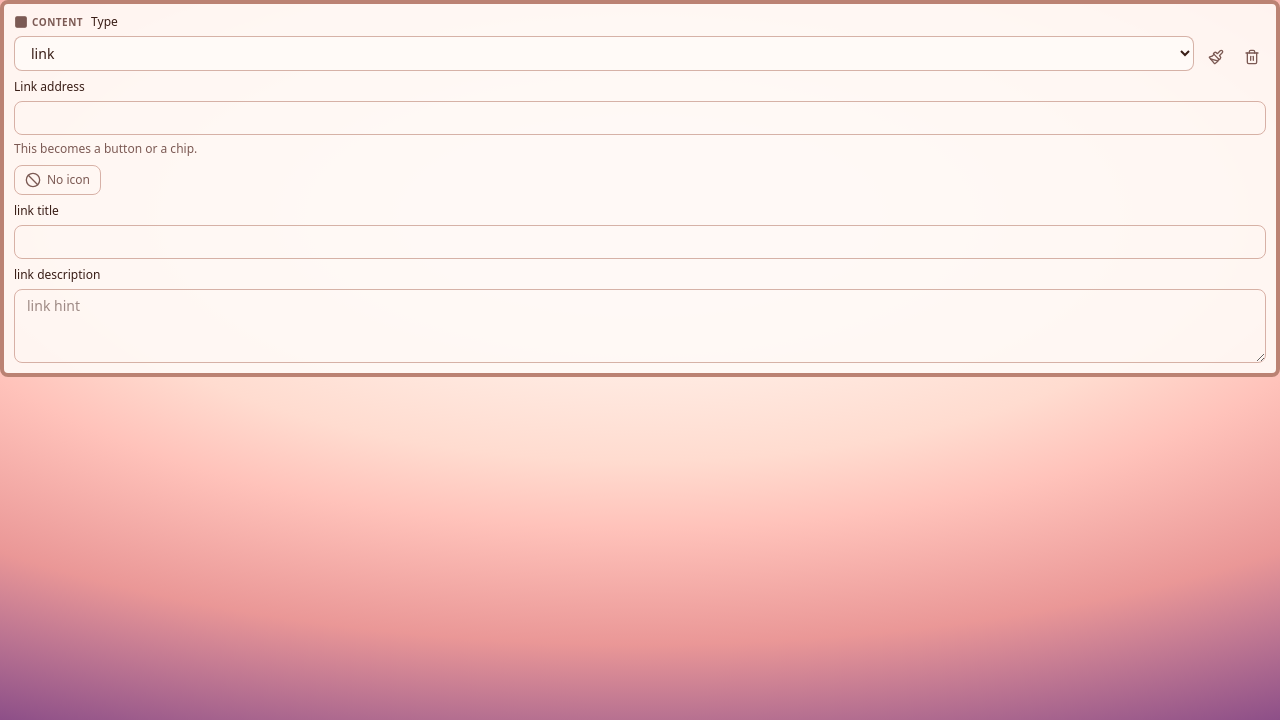
Test case: LeafEditor › its own style popup › offers 'style', 'card' and 'border' for a link leaf
Click the button named "Section style".
click(1216, 57)  # box [1202,43,1230,71]
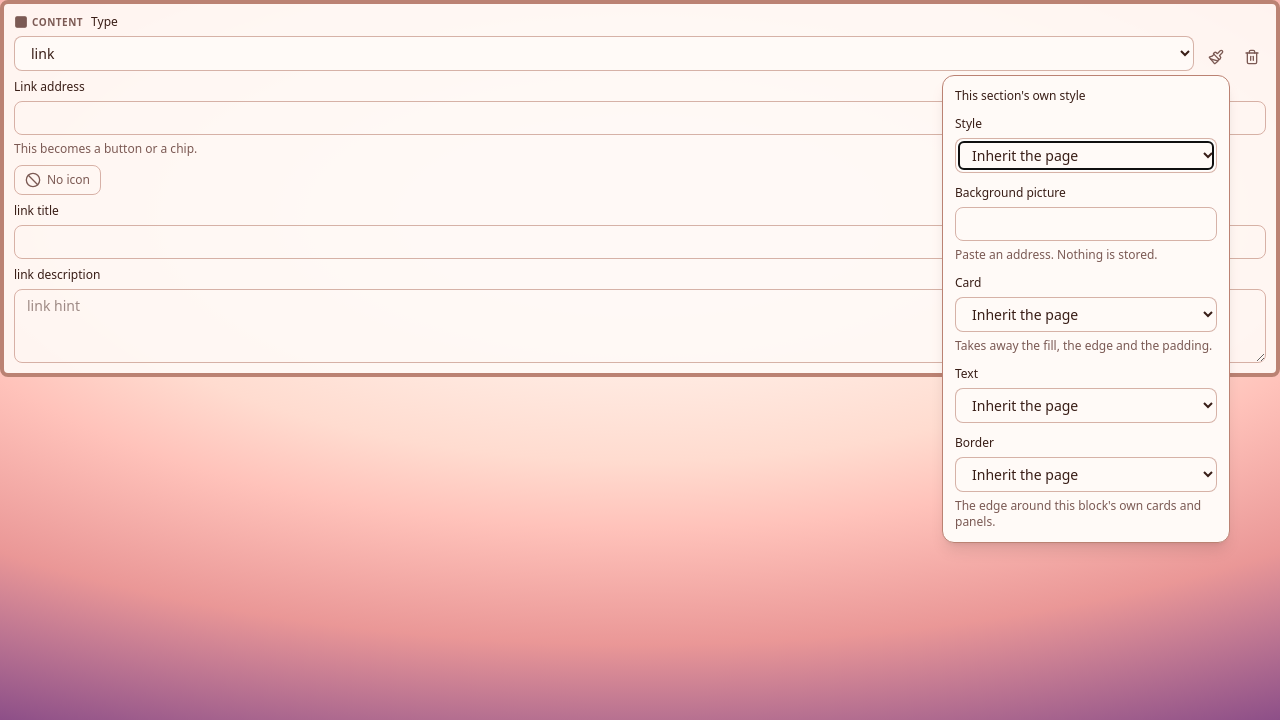
expect the dropdown labelled "Style" is shown: met, box [955,138,1217,173]
expect the dropdown labelled "Card" is shown: met, box [955,297,1217,332]
expect the dropdown labelled "Border" is shown: met, box [955,457,1217,492]
